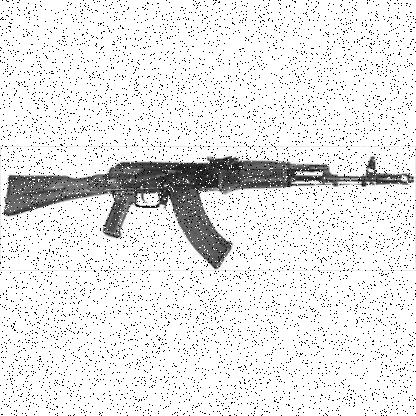gun: (2, 154, 414, 268)
